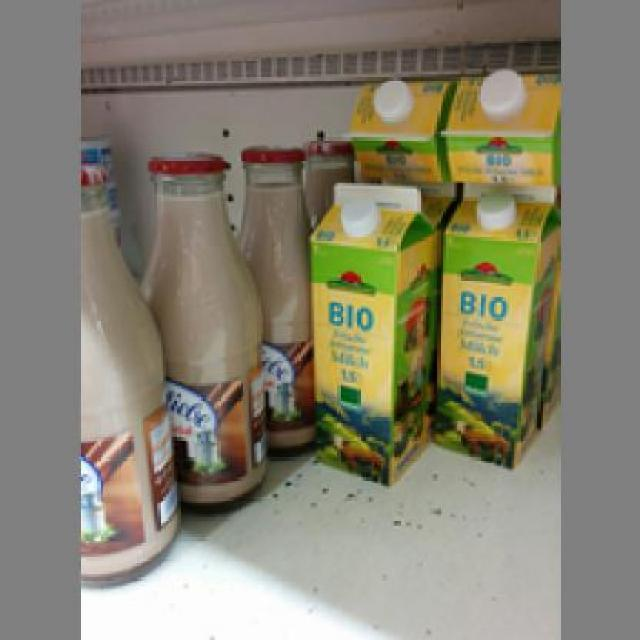Milk: (134, 150, 272, 507), (74, 160, 177, 583), (303, 174, 432, 486), (434, 176, 543, 469), (238, 136, 312, 452)
